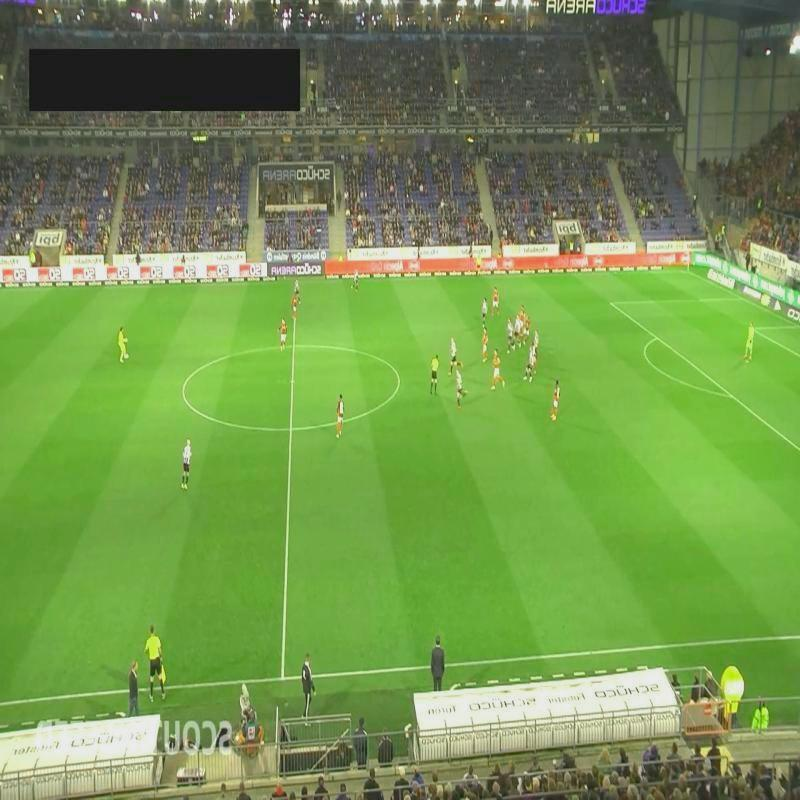1: (680, 265, 694, 279)
10: (650, 330, 664, 344)
11: (724, 390, 739, 404)
13: (290, 274, 303, 288)
14: (286, 338, 300, 352)
15: (284, 422, 298, 436)
16: (276, 668, 294, 689)
2: (735, 293, 749, 307)
7: (745, 322, 759, 336)
9: (604, 297, 618, 310)
c: (176, 384, 190, 398), (395, 372, 404, 388)
